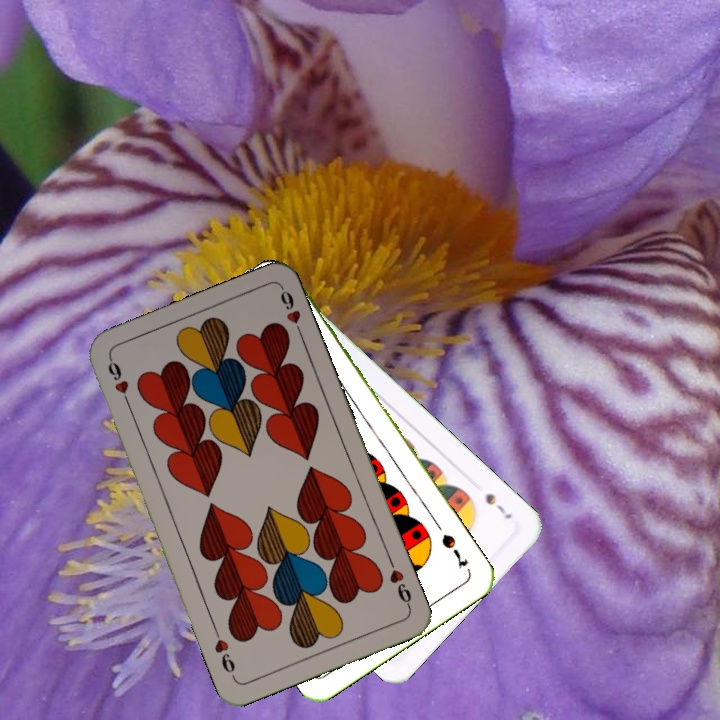H9: (103, 354, 134, 411), (384, 555, 415, 611)
S7: (437, 529, 471, 572), (481, 489, 515, 522)
